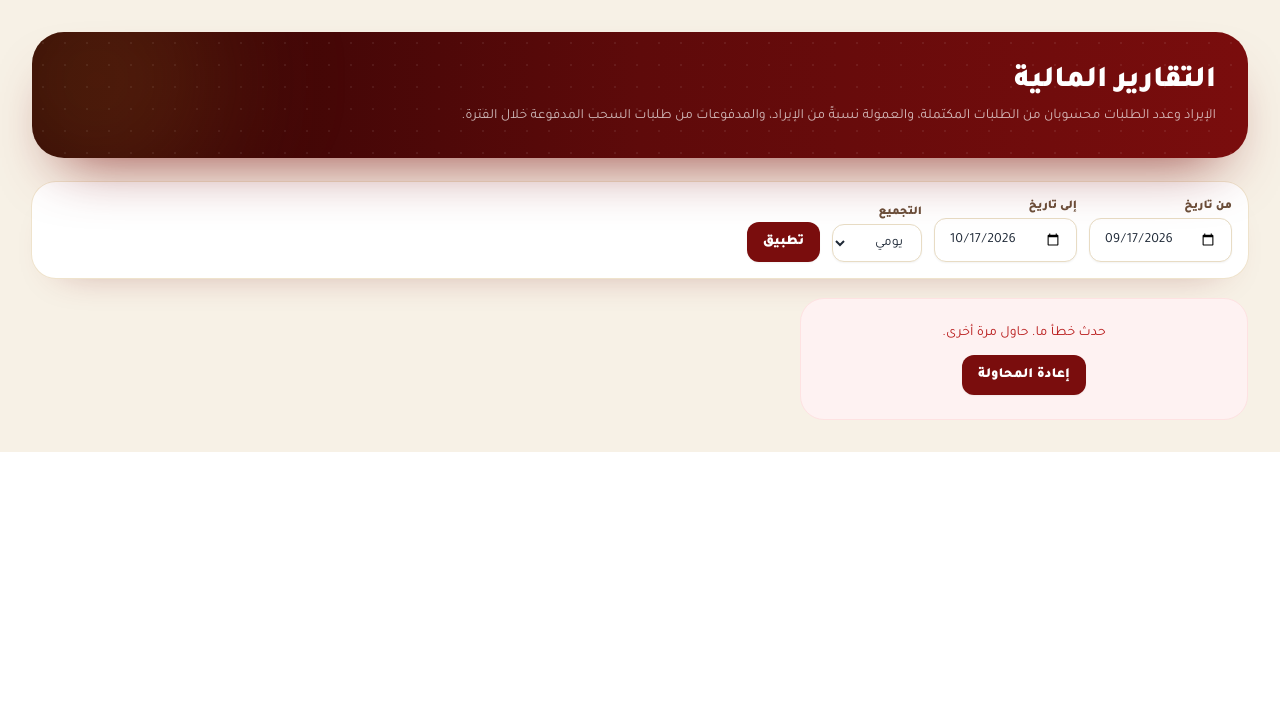
Test: Financial Reports (/admin/reports/financial) › an offline first load shows a screen error + Retry
Expected: the text "حدث خطأ ما. حاول مرة أخرى." is shown, [942, 326, 1106, 340]
Click the button "إعادة المحاولة" at (1024,375), box [962, 355, 1086, 395]
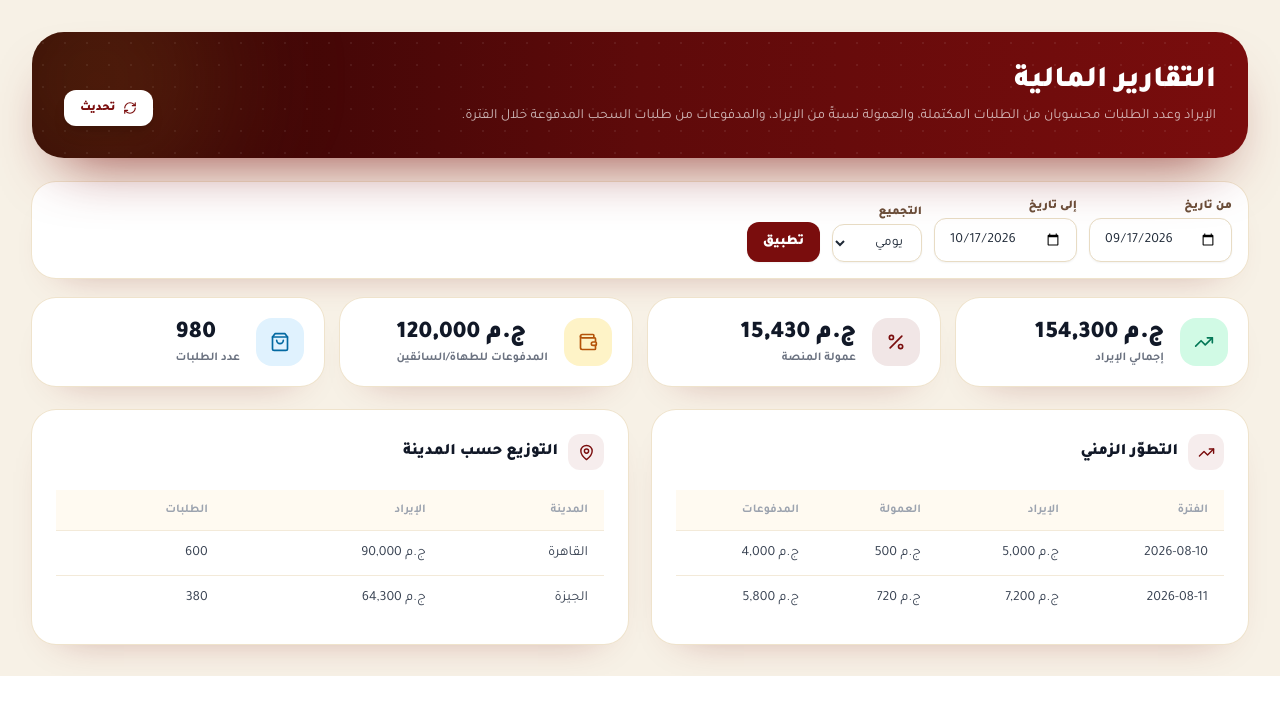
Result: the text "إجمالي الإيراد" is shown at [1095, 352, 1164, 364]
